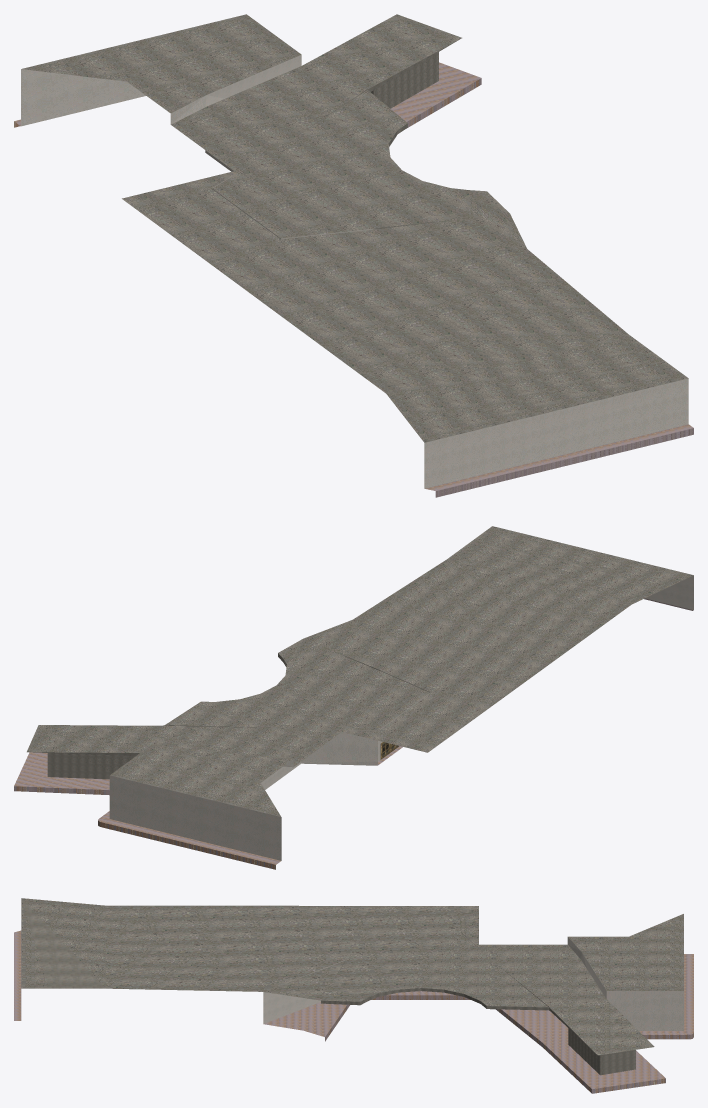
The model's file is lodspalace02_lvs.obj.
The picture shows the model from 3 angles, top to bottom: view 1: azimuth 30°, elevation 25°; view 2: azimuth 150°, elevation 25°; view 3: azimuth 270°, elevation 25°; orthographic projection. The views are drawn at different scales.
Parts seen in each view (by area): view 1: lodspalace02_lvs; view 2: lodspalace02_lvs; view 3: lodspalace02_lvs.
Part boxes in pixels (bbox=[...]): lodspalace02_lvs: bbox=[14, 14, 693, 497]; lodspalace02_lvs: bbox=[14, 526, 693, 869]; lodspalace02_lvs: bbox=[14, 898, 693, 1093].
Bounding box in the file's own units: 101 × 13.33 × 183.
Materials: 5 (5 with a texture image).
